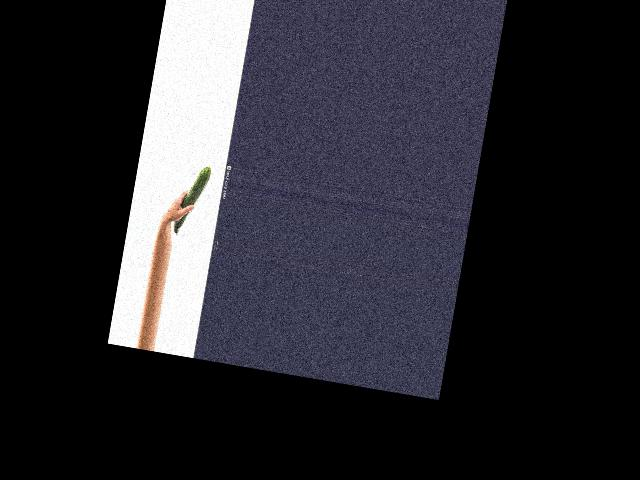cucumber: (172, 162, 212, 239)
